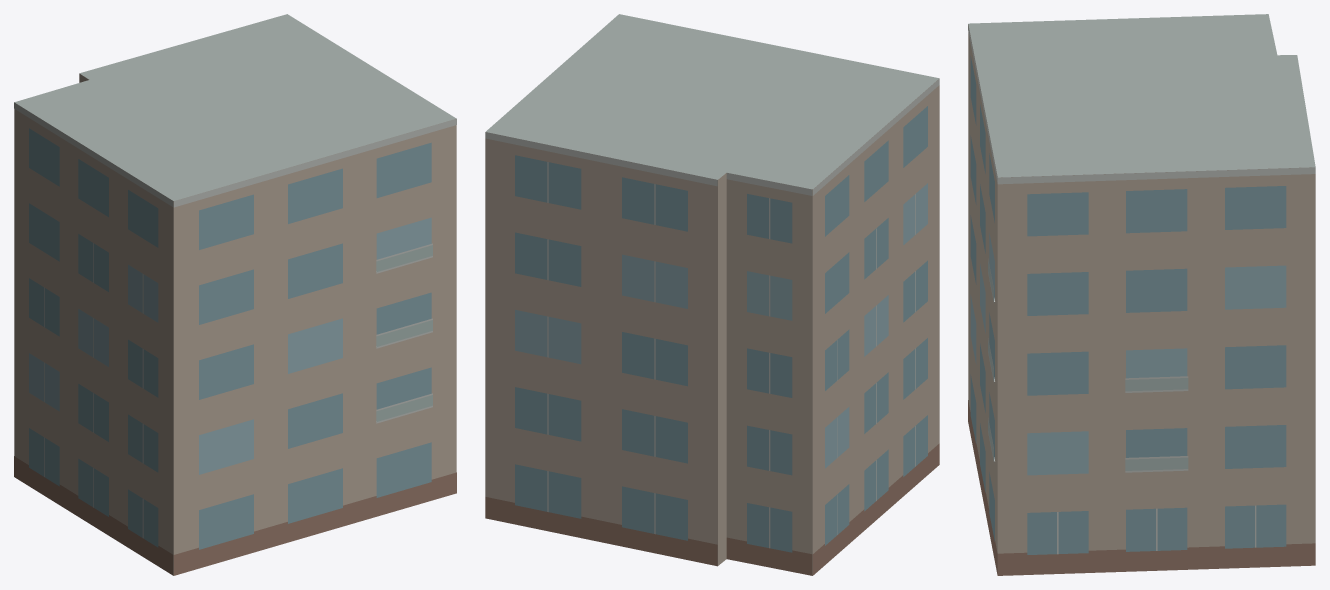
The model's file is survey-upis-32702323.glb.
The picture shows the model from 3 angles, left to right: view 1: azimuth 30°, elevation 25°; view 2: azimuth 150°, elevation 25°; view 3: azimuth 270°, elevation 25°; orthographic projection. The views are drawn at different scales.
Parts seen in each view (by area): view 1: survey-upis-32702323.tmp; view 2: survey-upis-32702323.tmp; view 3: survey-upis-32702323.tmp.
Part boxes in pixels (<box>): survey-upis-32702323.tmp: <box>14,14,456,575</box>; survey-upis-32702323.tmp: <box>485,14,939,575</box>; survey-upis-32702323.tmp: <box>968,14,1315,575</box>.
Size of the model in its own units: 12.64 by 14.35 by 11.36.
